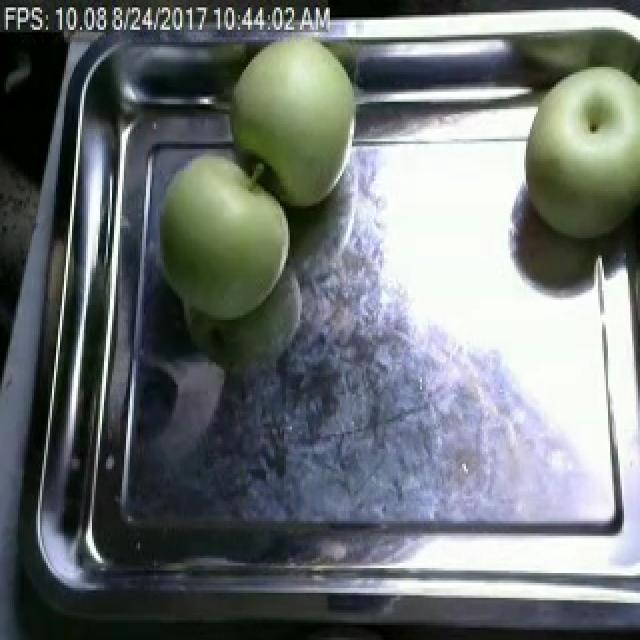50-_ripeness: (131, 145, 327, 326), (491, 45, 640, 247), (221, 28, 374, 212)
